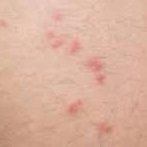Ants: (44, 30, 82, 55), (84, 53, 111, 87), (64, 98, 84, 116), (97, 119, 111, 133), (50, 11, 63, 22), (0, 20, 12, 30)
